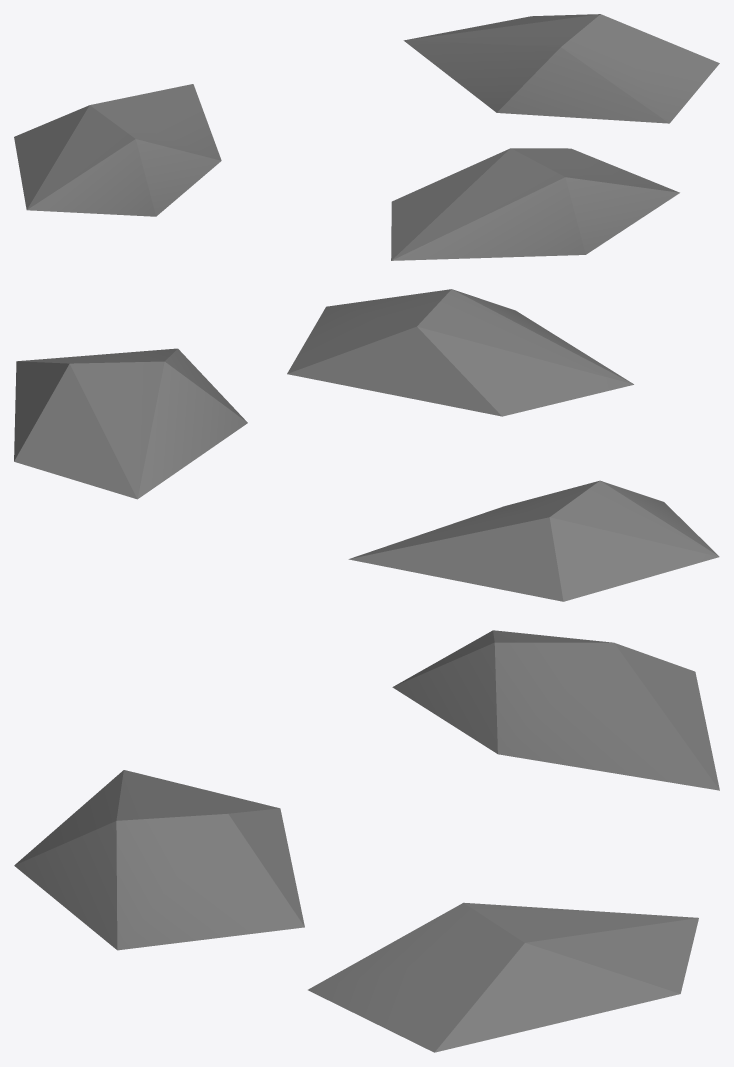
The model's file is stones_3.glb.
The picture shows the model from 3 angles, top to bottom: view 1: azimuth 30°, elevation 25°; view 2: azimuth 150°, elevation 25°; view 3: azimuth 270°, elevation 25°; orthographic projection. The views are drawn at different scales.
Visible parts, largest first — view 1: stones_3; view 2: stones_3; view 3: stones_3.
Boxes of the visible parts, x1,y1,x2,y2 form: stones_3: (14, 14, 719, 260); stones_3: (14, 289, 719, 601); stones_3: (14, 630, 719, 1052).
Size of the model in its own units: 1.13 by 0.071 by 0.799.
Materials: 1 (1 with a texture image).
